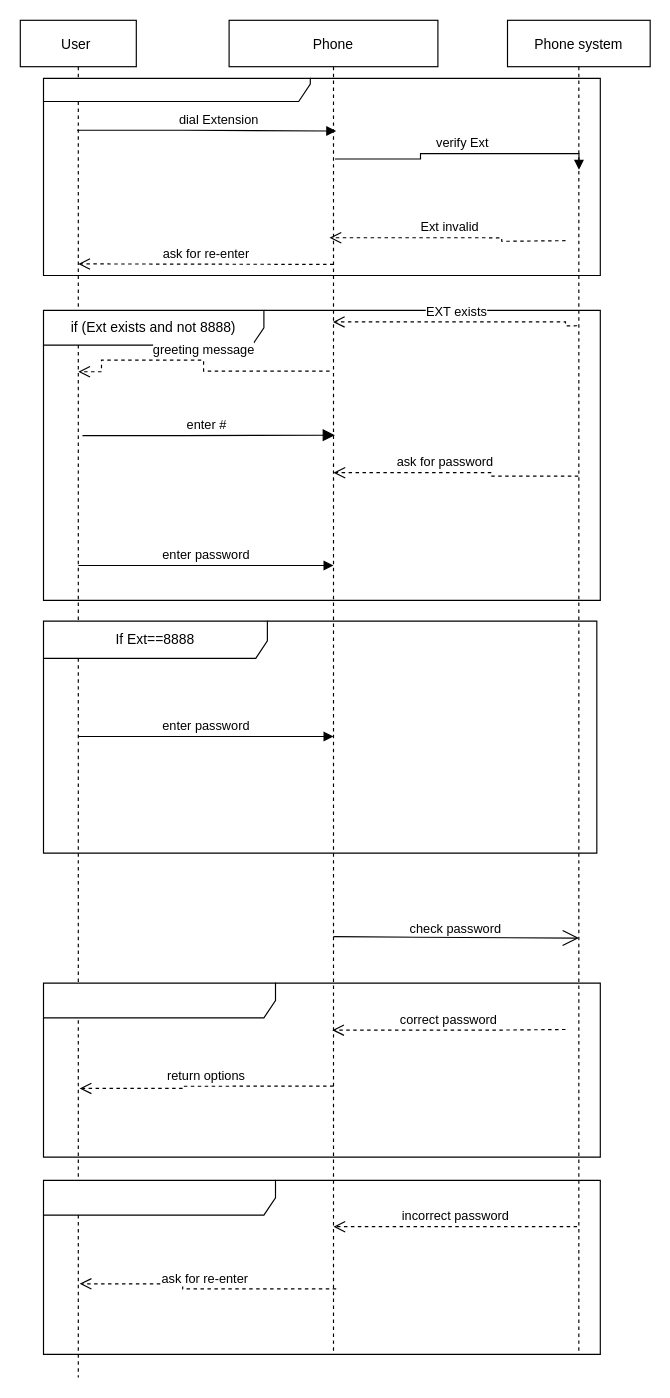
The diagram is 670 pixels wide and 1398 high, and some of its shapes have lost their labels. Here are the shapes that lost their labels. From the top down, the centre of each, then its label:
At (321,176): "While Ext doesn't exist or not 8888".
At (321,1069): "valid password".
At (321,1266): "invalid password".
